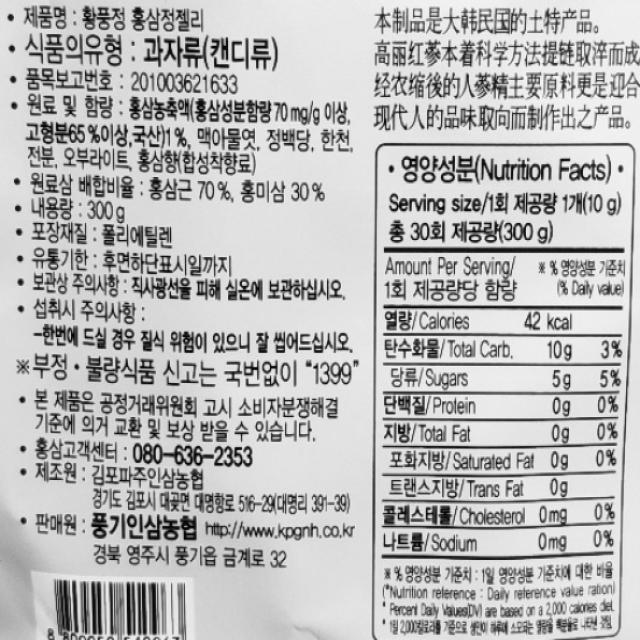Nutrition Label: (367, 143, 635, 583)
